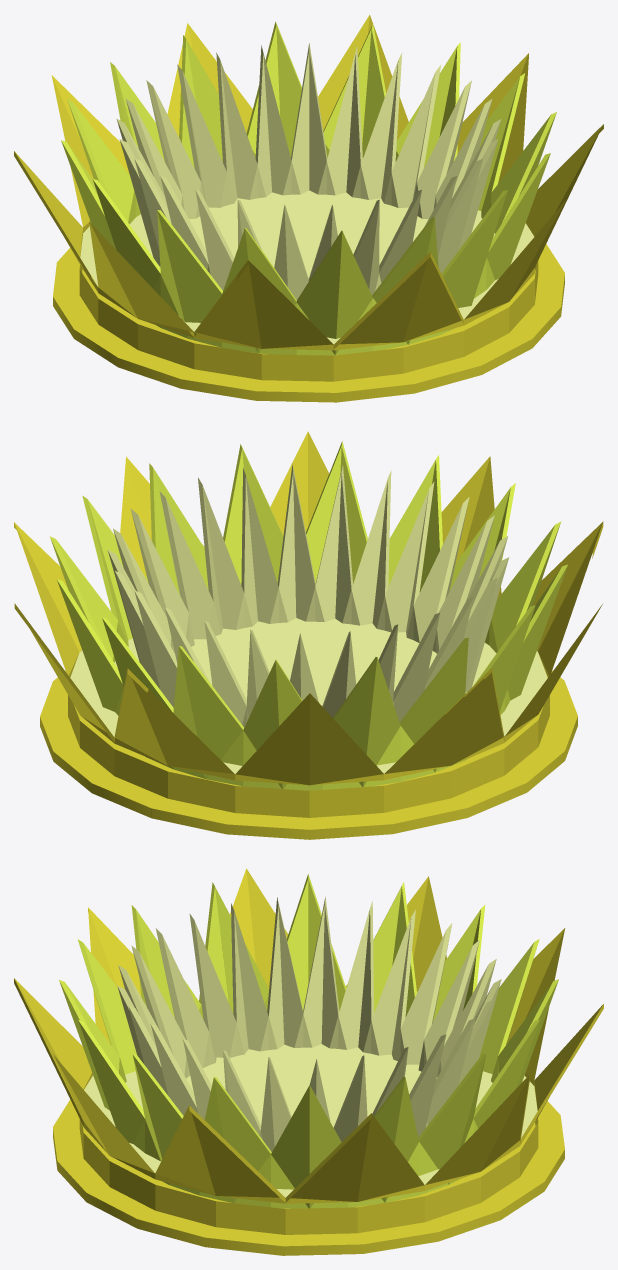
Rendered from portal_abrir_000020.obj.
3 views of the same model, one above another, from view 1: azimuth 30°, elevation 25°; view 2: azimuth 150°, elevation 25°; view 3: azimuth 270°, elevation 25° (orthographic). The views are drawn at different scales.
Parts seen in each view (by area): view 1: pCylinder1, Cylinder.001, Cylinder; view 2: pCylinder1, Cylinder.001, Cylinder; view 3: pCylinder1, Cylinder.001, Cylinder.
Boxes of the visible parts, bbox=[...] form: pCylinder1: bbox=[14, 15, 603, 402]; Cylinder.001: bbox=[116, 43, 501, 299]; Cylinder: bbox=[61, 21, 556, 355]; pCylinder1: bbox=[14, 431, 603, 839]; Cylinder.001: bbox=[107, 463, 509, 727]; Cylinder: bbox=[50, 441, 567, 790]; pCylinder1: bbox=[14, 868, 603, 1255]; Cylinder.001: bbox=[117, 896, 501, 1151]; Cylinder: bbox=[59, 874, 558, 1208].
Size of the model in its own units: 3.75 by 1.22 by 3.81.
Materials: 4 (4 with a texture image).
